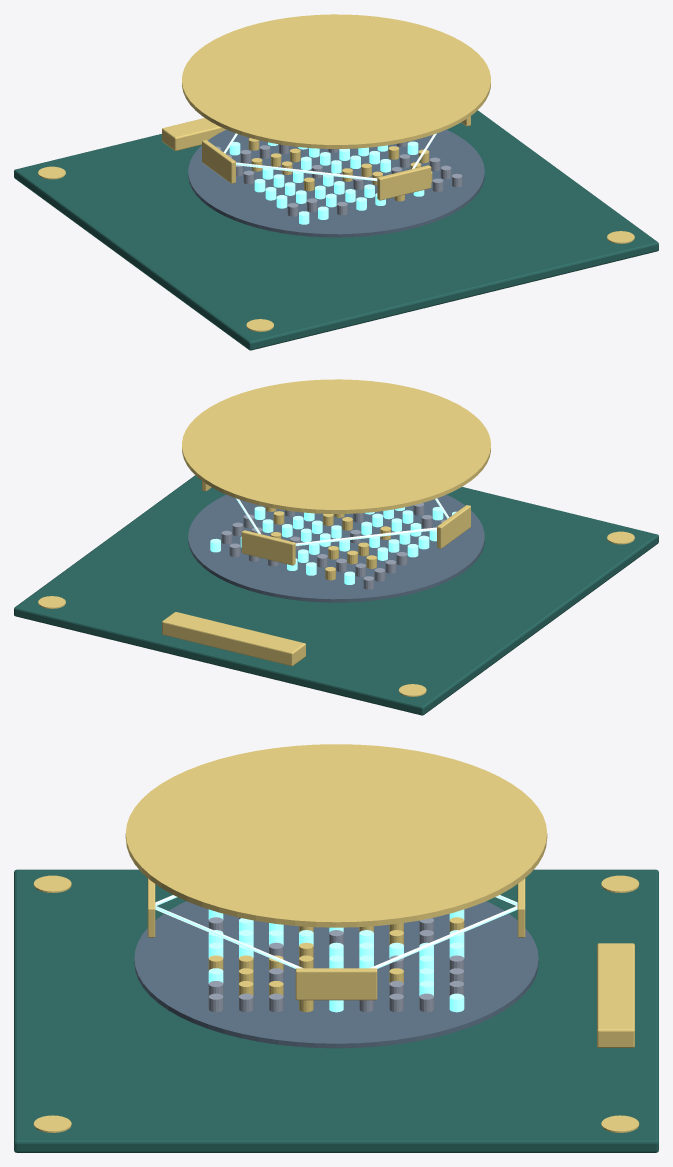
The model's file is axon_quantum.glb.
3 views of the same model, one above another, from view 1: azimuth 30°, elevation 25°; view 2: azimuth 150°, elevation 25°; view 3: azimuth 270°, elevation 25° (orthographic). The views are drawn at different scales.
Visible parts, largest first — view 1: Layer1_CarrierPCB_75x75, Layer4_CeilingMirror_6NAu, Layer2_Cheonbu81_Wafer, Mirror_6NAu_M1, Samtec_J1_Connector, Mirror_6NAu_M4, Ring_4Bounce_Laser; view 2: Layer1_CarrierPCB_75x75, Layer4_CeilingMirror_6NAu, Layer2_Cheonbu81_Wafer, Samtec_J1_Connector, Mirror_6NAu_M3, Mirror_6NAu_M4, Ring_4Bounce_Laser; view 3: Layer1_CarrierPCB_75x75, Layer4_CeilingMirror_6NAu, Layer2_Cheonbu81_Wafer, Samtec_J1_Connector, Mirror_6NAu_M2, Ring_4Bounce_Laser.
Boxes of the visible parts, x1,y1,x2,y2 form: Layer1_CarrierPCB_75x75: (14,110,658,350); Layer4_CeilingMirror_6NAu: (182,14,490,148); Layer2_Cheonbu81_Wafer: (188,129,484,237); Mirror_6NAu_M1: (377,165,431,200); Samtec_J1_Connector: (162,118,225,150); Mirror_6NAu_M4: (202,140,235,183); Ring_4Bounce_Laser: (223,133,436,180); Layer1_CarrierPCB_75x75: (14,475,658,715); Layer4_CeilingMirror_6NAu: (182,379,490,513); Layer2_Cheonbu81_Wafer: (188,494,484,602); Samtec_J1_Connector: (162,612,305,666); Mirror_6NAu_M3: (241,530,295,565); Mirror_6NAu_M4: (437,505,470,548); Ring_4Bounce_Laser: (236,498,449,545); Layer1_CarrierPCB_75x75: (14,869,658,1152); Layer4_CeilingMirror_6NAu: (125,744,547,927); Layer2_Cheonbu81_Wafer: (134,901,538,1048); Samtec_J1_Connector: (597,943,634,1047); Mirror_6NAu_M2: (295,968,377,1000); Ring_4Bounce_Laser: (155,895,517,968).
Bounding box in the file's own units: 7.5 × 2.37 × 7.5.
